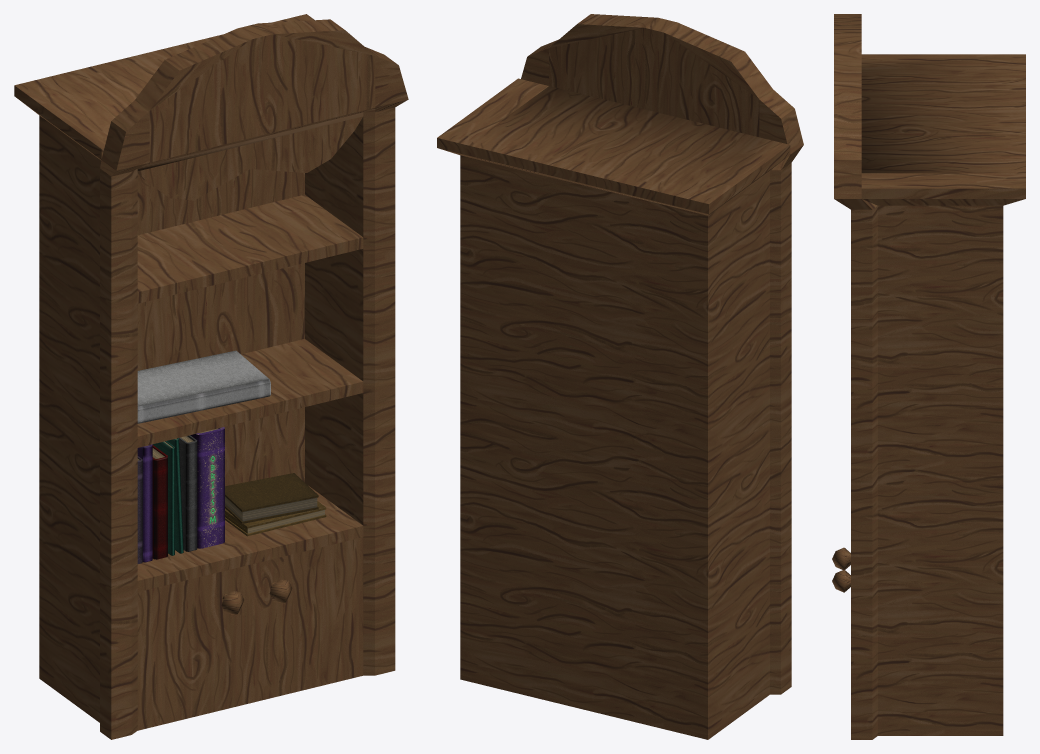
File: library.fbx
3 views of the same model, side by side, from view 1: azimuth 30°, elevation 25°; view 2: azimuth 150°, elevation 25°; view 3: azimuth 270°, elevation 25° (orthographic). The views are drawn at different scales.
Visible parts, largest first — view 1: shared_library; view 2: shared_library; view 3: shared_library.
Part boxes in pixels (bbox=[...]): shared_library: bbox=[14, 14, 408, 739]; shared_library: bbox=[437, 14, 803, 739]; shared_library: bbox=[832, 14, 1025, 739].
Bounding box in the file's own units: 181 × 400 × 111.
